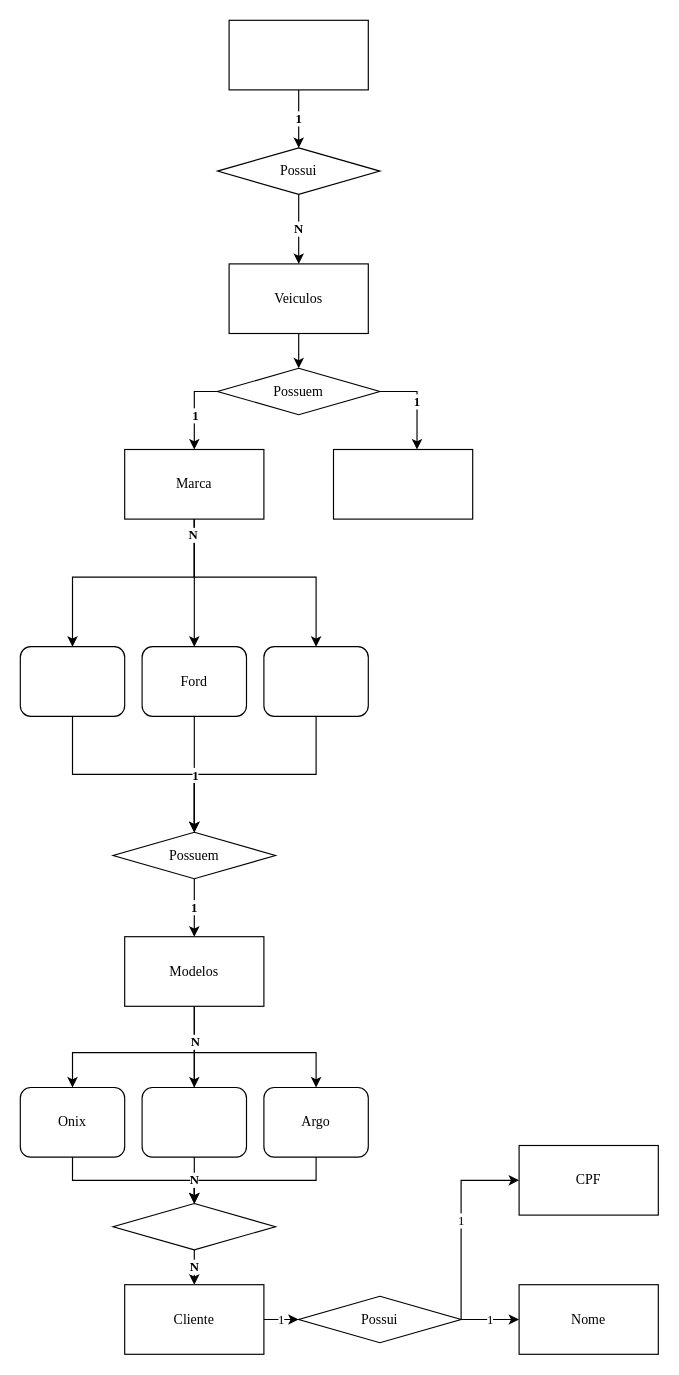
The diagram is 679 pixels wide and 1375 high, and some of its shapes have lost their labels. The shapes that lost their labels are listed below. From the top down, each one's centre as x and y in pixels, then its label:
At point (298, 54): "Empresa".
At point (402, 483): "Placa".
At point (72, 681): "GM".
At point (315, 681): "Fiat".
At point (193, 1121): "Fiesta".
At point (194, 1226): "Alugados por".
